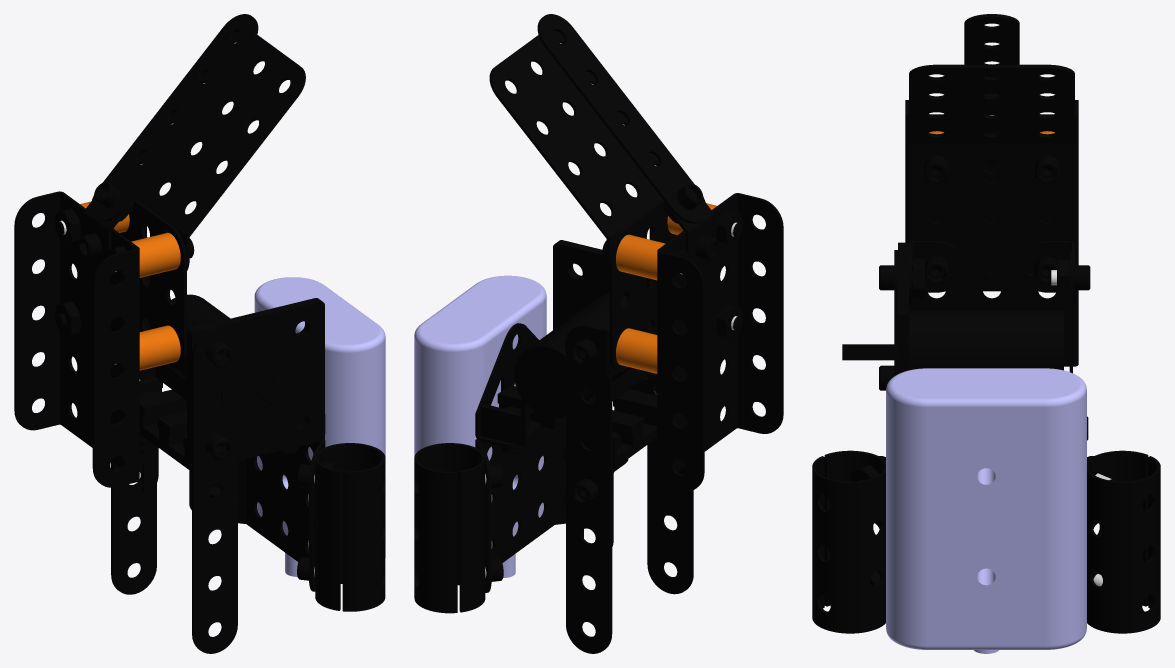
The picture shows the model from 3 angles, left to right: view 1: azimuth 30°, elevation 25°; view 2: azimuth 150°, elevation 25°; view 3: azimuth 270°, elevation 25°; orthographic projection. The views are drawn at different scales.
Visible parts, largest first — view 1: matte zinc, polished nickel, matte zinc-4, cast iron, white-pw-mt11050, white-pw-mt11050-2, polished bronze; view 2: matte zinc, polished nickel, matte zinc-4, cast iron, white-pw-mt11050, white-pw-mt11050-2; view 3: white-pw-mt11050, matte zinc, matte zinc-4, polished nickel, cast iron, polished bronze.
Part boxes in pixels (x1=…): matte zinc: x1=55, y1=14, x2=385, y2=653; polished nickel: x1=14, y1=191, x2=186, y2=487; matte zinc-4: x1=134, y1=30, x2=325, y2=591; cast iron: x1=139, y1=294, x2=324, y2=471; white-pw-mt11050: x1=254, y1=277, x2=385, y2=576; white-pw-mt11050-2: x1=80, y1=201, x2=180, y2=370; polished bronze: x1=251, y1=378, x2=289, y2=409; matte zinc: x1=414, y1=14, x2=742, y2=653; polished nickel: x1=609, y1=193, x2=783, y2=491; matte zinc-4: x1=475, y1=30, x2=662, y2=592; cast iron: x1=480, y1=240, x2=657, y2=468; white-pw-mt11050: x1=414, y1=275, x2=546, y2=577; white-pw-mt11050-2: x1=616, y1=203, x2=716, y2=373; white-pw-mt11050: x1=886, y1=368, x2=1086, y2=653; matte zinc: x1=812, y1=14, x2=1160, y2=633; matte zinc-4: x1=870, y1=64, x2=1102, y2=574; polished nickel: x1=905, y1=100, x2=1078, y2=366; cast iron: x1=898, y1=242, x2=1063, y2=373; polished bronze: x1=842, y1=344, x2=897, y2=360.
Bounding box in the file's own units: 8.49 × 16.01 × 7.99.
